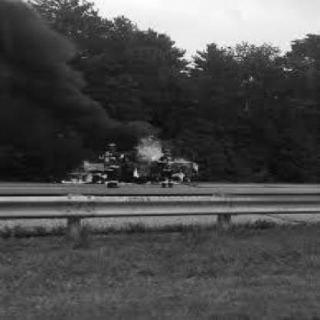Fire: (71, 129, 200, 189)
Smoke: (0, 2, 92, 143)
